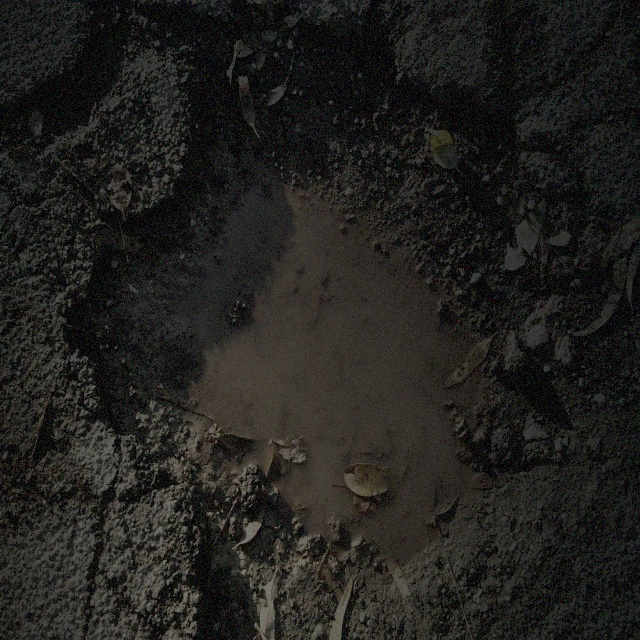pothole: (61, 107, 572, 597)
